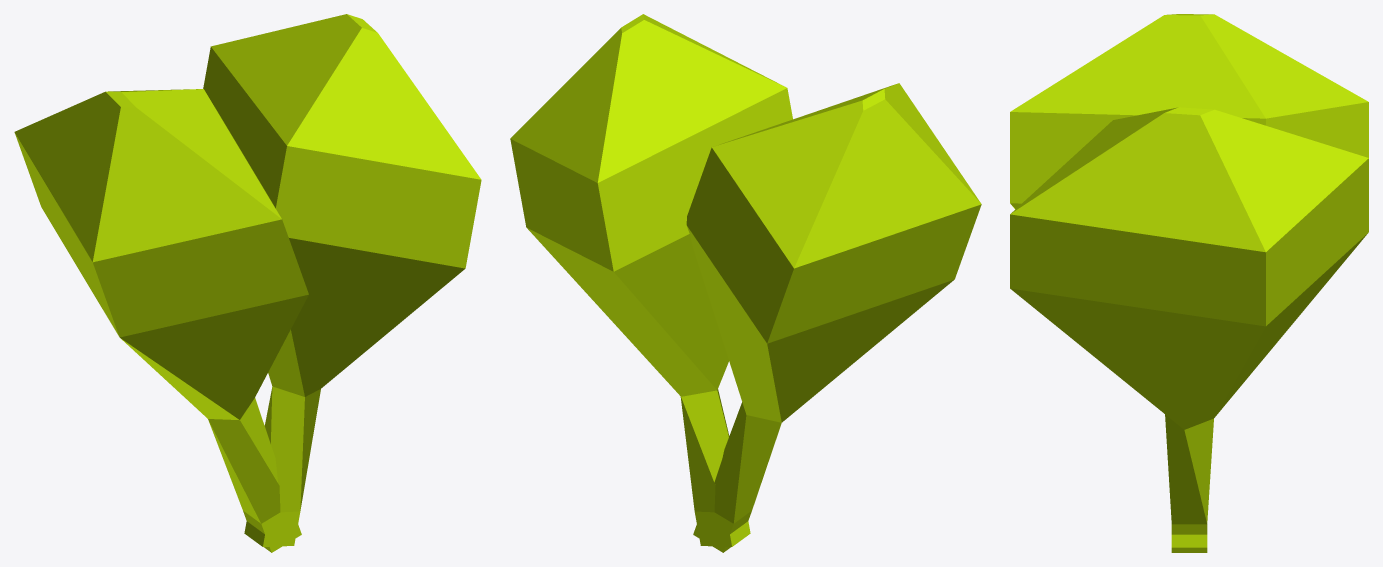
The model's file is gaspod.glb.
The picture shows the model from 3 angles, left to right: view 1: azimuth 30°, elevation 25°; view 2: azimuth 150°, elevation 25°; view 3: azimuth 270°, elevation 25°; orthographic projection. The views are drawn at different scales.
Parts seen in each view (by area): view 1: Cube.001, Cube; view 2: Cube, Cube.001; view 3: Cube.001, Cube.
Boxes of the visible parts, <box> form: Cube.001: <box>203,14,481,546</box>; Cube: <box>14,89,308,552</box>; Cube: <box>686,83,981,552</box>; Cube.001: <box>510,14,792,546</box>; Cube.001: <box>1010,107,1368,552</box>; Cube: <box>1010,14,1368,547</box>.
Size of the model in its own units: 4.45 by 5.42 by 3.67.
